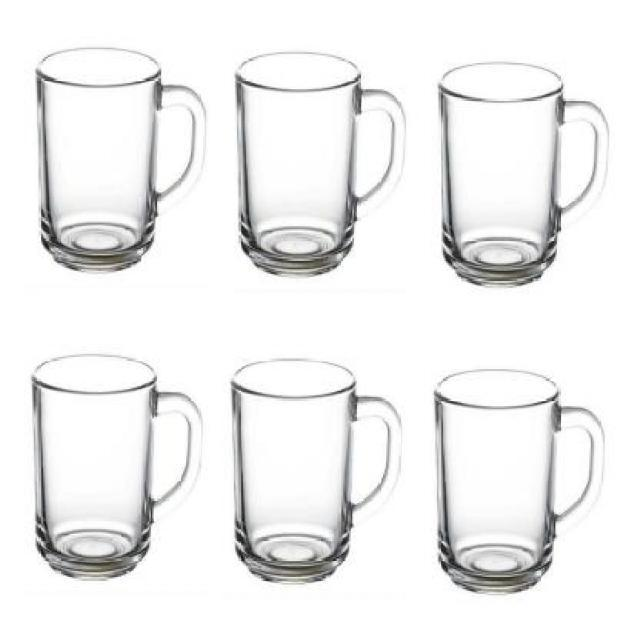taza: (434, 56, 610, 289), (232, 47, 408, 279), (434, 368, 608, 598), (227, 358, 401, 588), (31, 349, 202, 583), (35, 45, 206, 276)
